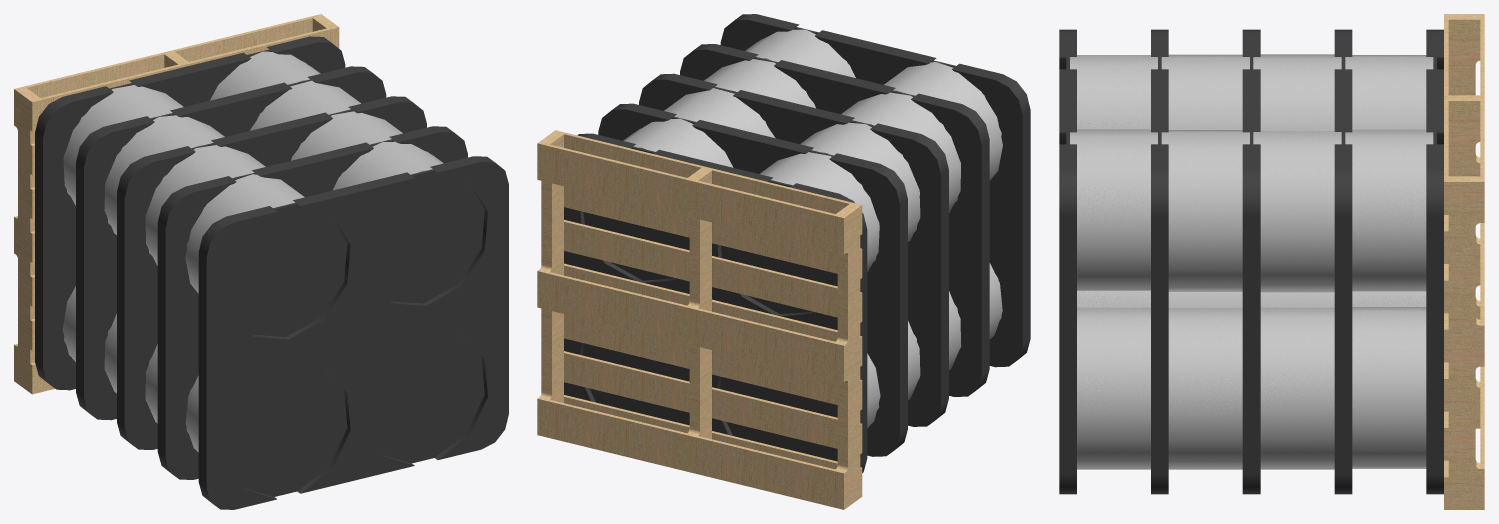
Rendered from pallet_forged_wheels_newaxis.obj.
3 views of the same model, side by side, from view 1: azimuth 30°, elevation 25°; view 2: azimuth 150°, elevation 25°; view 3: azimuth 270°, elevation 25° (orthographic). The views are drawn at different scales.
Visible parts, largest first — view 1: Solid1:20, Solid1:21, Solid1:2, Solid1:7, Solid1:11, Solid1, Solid1:15, Solid1:8, Solid1:3, Solid1:16, Solid1:14, Solid1:6 (+6 smaller); view 2: Solid1, Solid1:2, Solid1:20, Solid1:21, Solid1:11, Solid1:7, Solid1:8, Solid1:15, Solid1:16, Solid1:3, Solid1:14, Solid1:18 (+6 smaller); view 3: Solid1, Solid1:1, Solid1:6, Solid1:14, Solid1:10, Solid1:18, Solid1:5, Solid1:13, Solid1:19, Solid1:7, Solid1:11, Solid1:2 (+10 smaller).
Part boxes in pixels (x1,y1,x2,y2): Solid1:20: (198,156,508,509); Solid1:21: (157,126,467,479); Solid1:2: (35,36,345,390); Solid1:7: (76,66,386,420); Solid1:11: (117,96,426,449); Solid1: (14,14,339,394); Solid1:15: (145,145,265,265); Solid1:8: (104,115,224,234); Solid1:3: (63,85,183,205); Solid1:16: (185,174,304,293); Solid1:14: (291,111,402,160); Solid1:6: (250,80,360,130); Solid1: (537,130,862,509); Solid1:2: (564,133,867,472); Solid1:20: (720,14,1030,367); Solid1:21: (680,44,989,396); Solid1:11: (639,73,948,426); Solid1:7: (598,103,907,456); Solid1:8: (800,122,920,241); Solid1:15: (841,92,960,212); Solid1:16: (884,62,1002,180); Solid1:3: (759,152,879,272); Solid1:14: (704,59,815,108); Solid1:18: (745,29,855,77); Solid1: (1444,14,1484,509); Solid1:1: (1345,129,1433,291); Solid1:6: (1253,131,1341,292); Solid1:14: (1161,130,1249,291); Solid1:10: (1260,307,1334,469); Solid1:18: (1070,129,1157,290); Solid1:5: (1352,307,1426,468); Solid1:13: (1168,308,1242,469); Solid1:19: (1077,307,1150,469); Solid1:7: (1334,29,1352,494); Solid1:11: (1242,29,1260,494); Solid1:2: (1426,29,1443,494).
Size of the model in its own units: 1.12 by 1.02 by 1.2.
